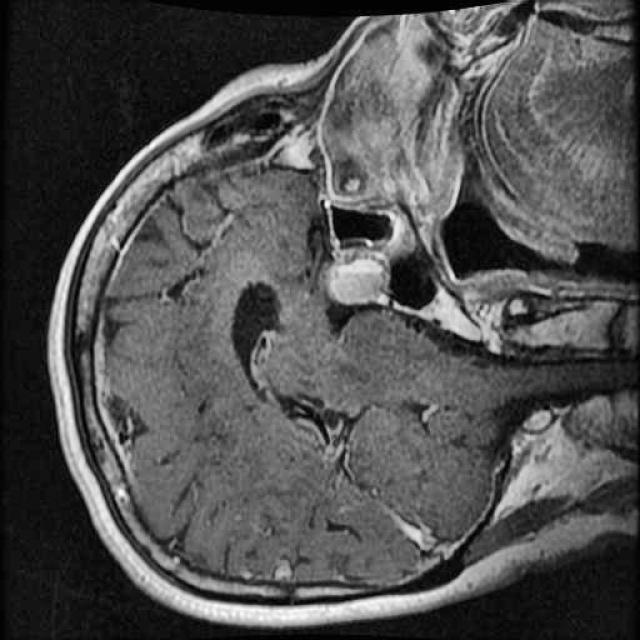Tumor: (320, 248, 396, 312)
